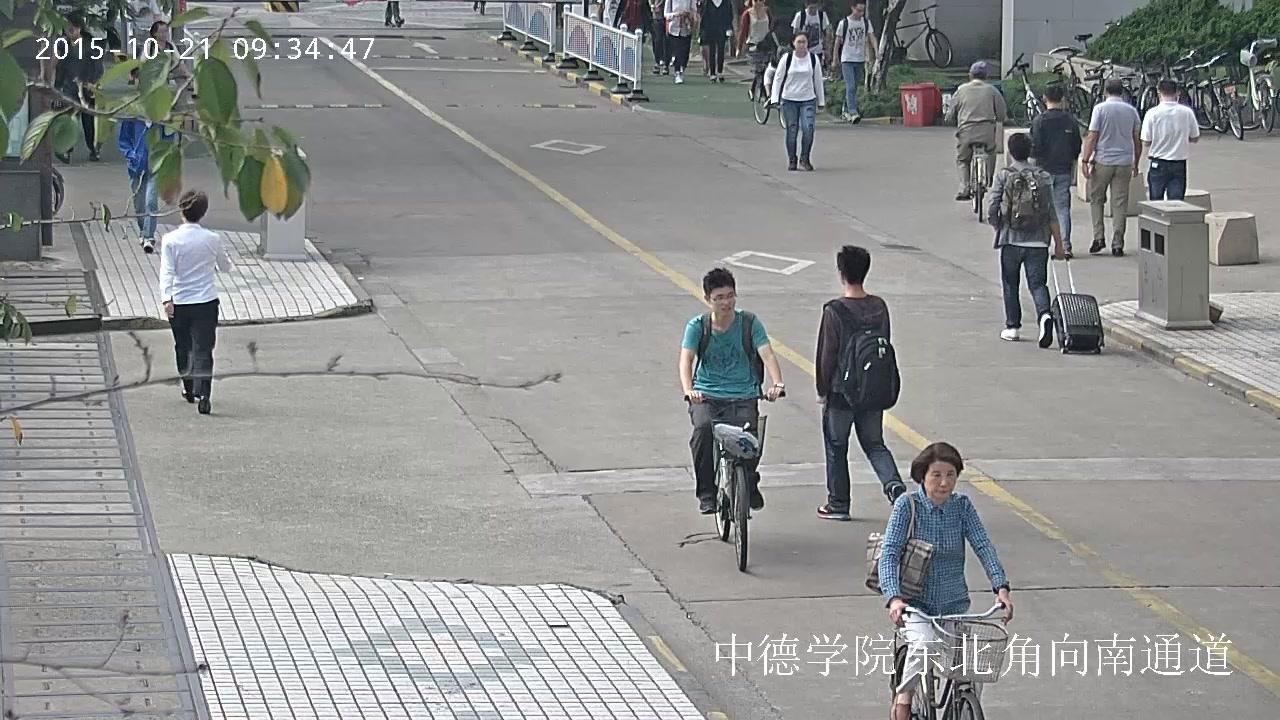face: (923, 461, 956, 497), (710, 285, 735, 316), (794, 34, 807, 51), (156, 24, 168, 41), (67, 25, 79, 38), (852, 3, 864, 16), (807, 3, 818, 14), (751, 0, 764, 8)
